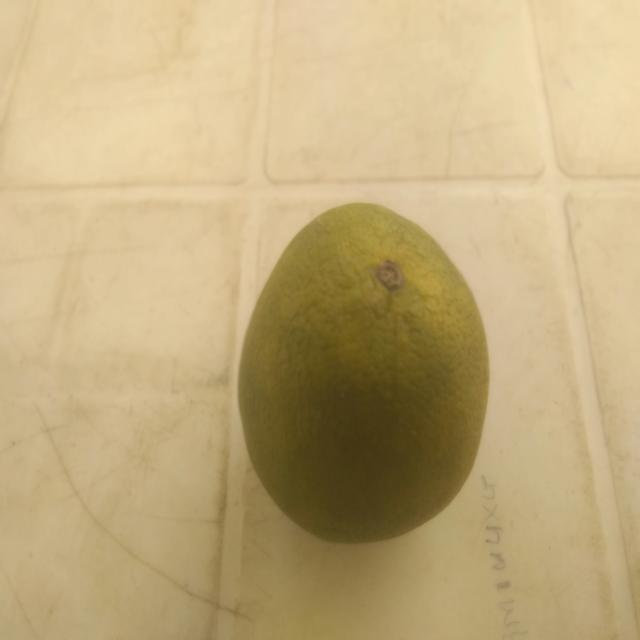Unripe: (215, 162, 528, 562)
